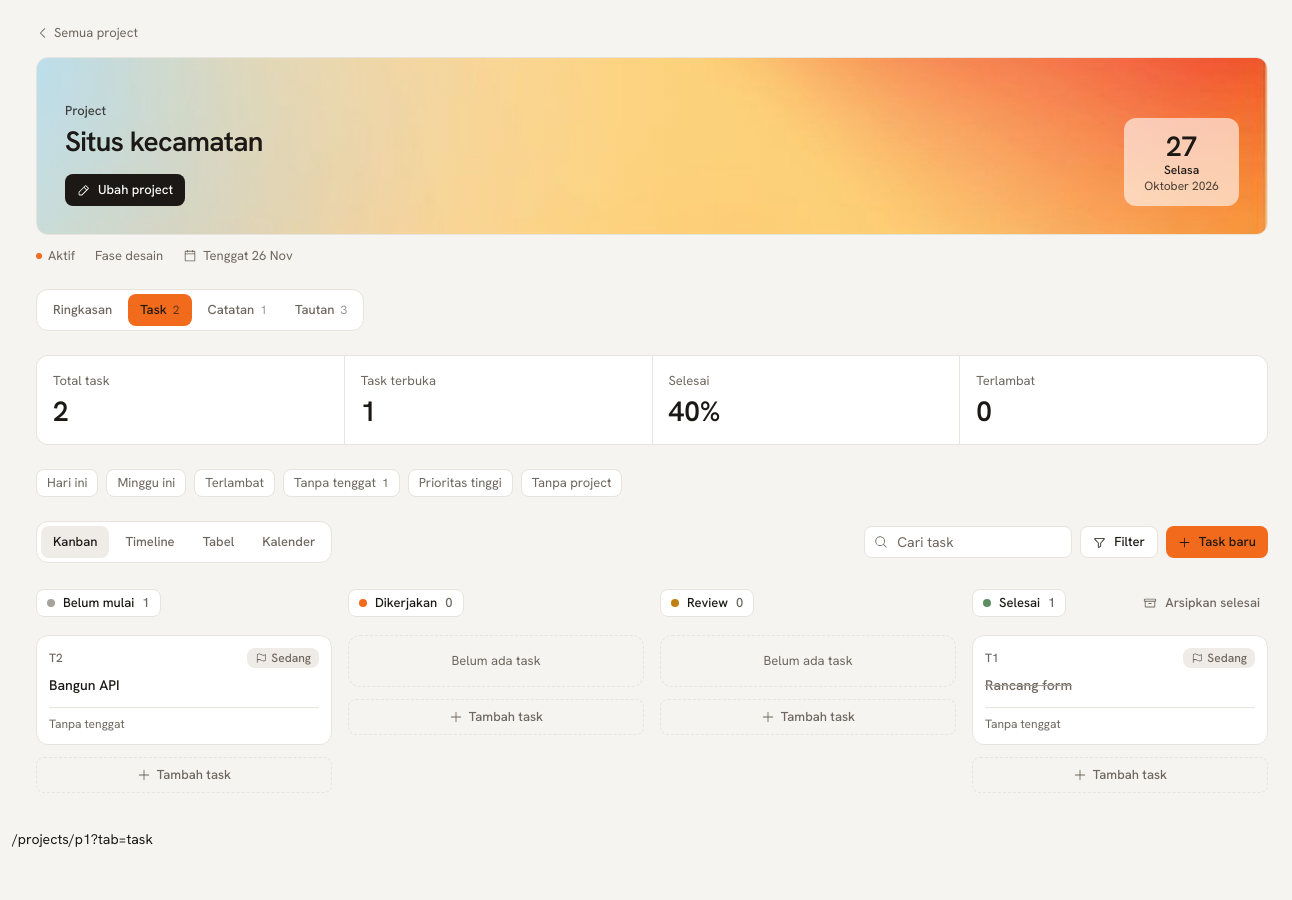
Test: tabs › the Task tab is the existing workspace, scoped to the project, and keeps its own view in the URL
Check: the heading "Rancang form" is shown, box [985,676,1072,694]
Click the tab "Tabel" at (218, 542), box [191,526,246,558]
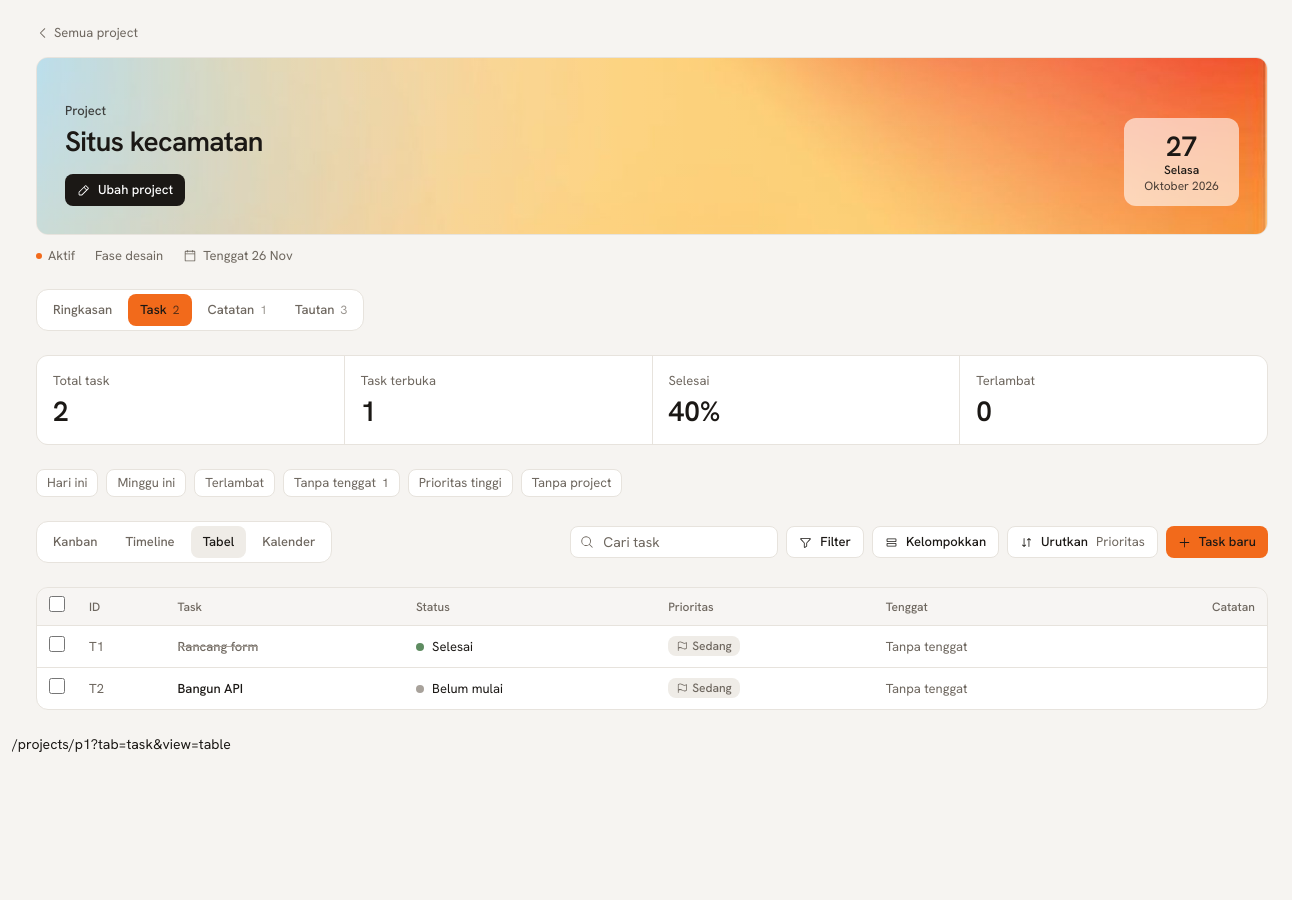
Check: the text with test id "where" reads "/projects/p1?tab=task&view=table", box [12,735,231,753]
Click the tab "Ringkasan" at (83, 310), box [41,294,124,326]
(page scrolled)
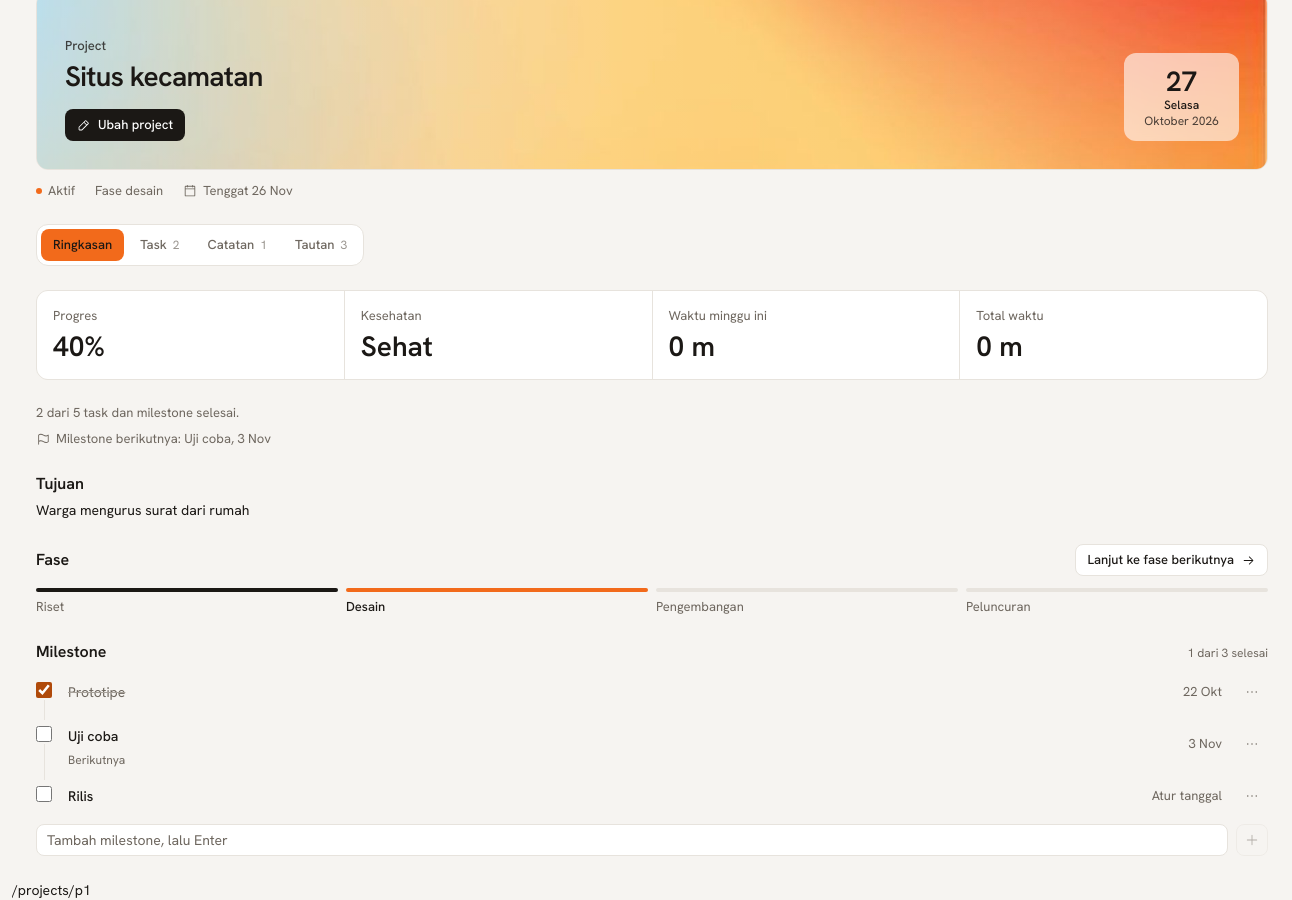
Check: the text with test id "where" reads "/projects/p1", box [12,881,91,899]
